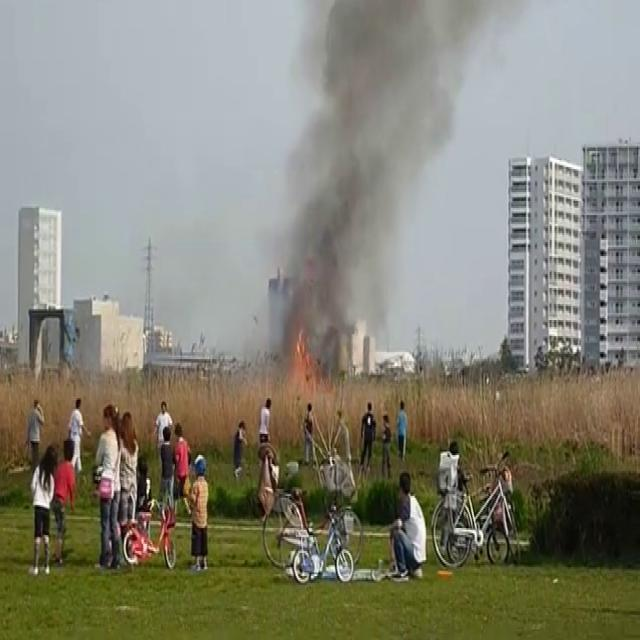Fire: (289, 317, 319, 384)
Smoke: (256, 0, 470, 366)
